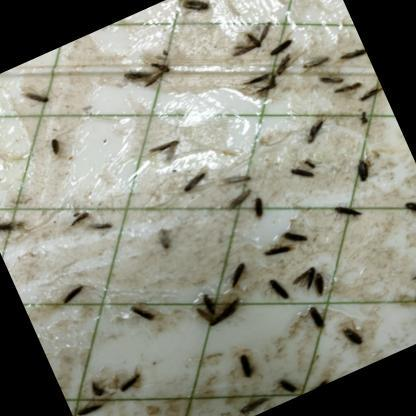prays_oleae: (218, 5, 275, 54), (112, 44, 160, 102), (217, 247, 268, 301), (104, 354, 152, 407), (142, 123, 191, 170), (293, 100, 340, 148), (170, 158, 215, 208), (327, 189, 372, 236), (14, 68, 56, 118), (202, 290, 249, 334), (140, 39, 178, 91), (122, 291, 162, 340), (257, 20, 301, 59), (336, 312, 374, 354), (54, 272, 94, 310), (258, 232, 298, 270), (231, 342, 264, 388), (284, 152, 321, 193), (78, 362, 114, 403), (294, 38, 332, 76), (261, 268, 295, 310), (230, 381, 269, 416), (348, 147, 380, 189), (278, 215, 312, 253), (0, 205, 29, 248), (221, 181, 258, 214), (328, 72, 364, 104), (244, 188, 274, 226), (67, 389, 109, 416), (334, 36, 369, 68), (270, 46, 301, 82), (222, 160, 256, 192), (395, 183, 416, 234), (301, 304, 332, 338), (173, 0, 215, 25), (193, 280, 221, 316), (301, 363, 336, 391), (38, 130, 67, 163), (353, 78, 386, 107), (397, 254, 416, 304), (289, 259, 320, 289), (315, 59, 346, 88), (274, 370, 302, 402), (306, 268, 334, 298), (410, 305, 416, 339)
